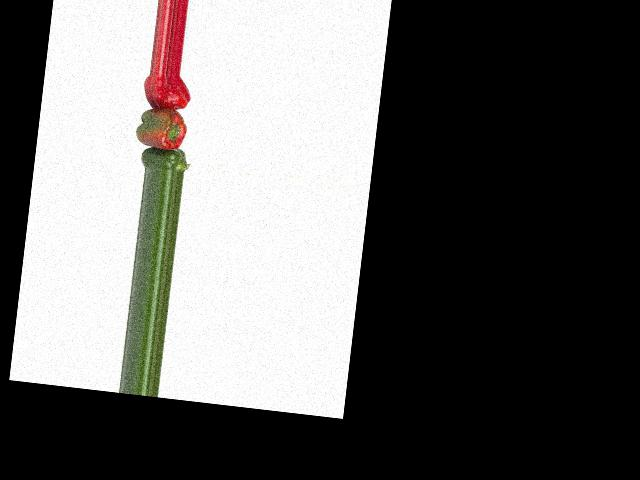bell_pepper: (139, 72, 196, 113)
